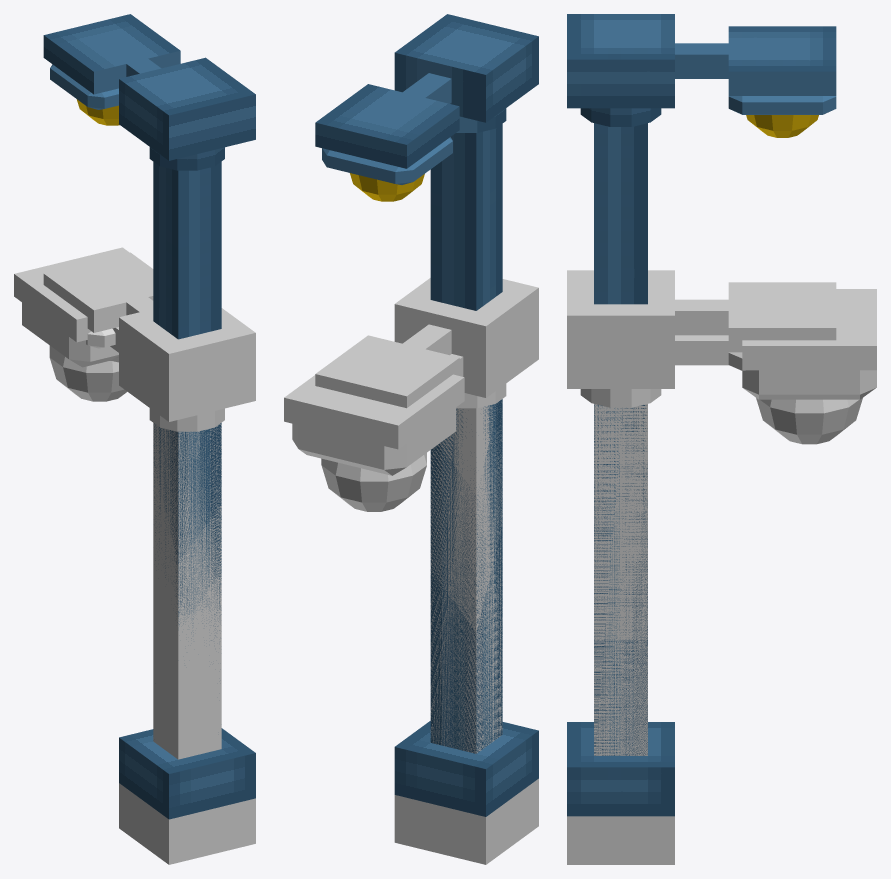
Rendered from LightPole (1).fbx.
The picture shows the model from 3 angles, left to right: view 1: azimuth 30°, elevation 25°; view 2: azimuth 150°, elevation 25°; view 3: azimuth 270°, elevation 25°; orthographic projection. The views are drawn at different scales.
Visible parts, largest first — view 1: cuboid, cuboid_1, cuboid_4, cuboid_5, cuboid_3, cuboid_6, beveled_cuboid; view 2: cuboid, cuboid_1, cuboid_3, cuboid_4, cuboid_5, cuboid_6; view 3: cuboid, cuboid_1, cuboid_3, cuboid_4, cuboid_5, cuboid_6.
Boxes of the visible parts, bbox=[...] form: cuboid: bbox=[43, 14, 255, 819]; cuboid_1: bbox=[14, 247, 255, 864]; cuboid_4: bbox=[119, 308, 255, 399]; cuboid_5: bbox=[43, 252, 153, 332]; cuboid_3: bbox=[154, 424, 221, 641]; cuboid_6: bbox=[120, 292, 153, 315]; beveled_cuboid: bbox=[86, 328, 115, 348]; cuboid: bbox=[315, 14, 538, 816]; cuboid_1: bbox=[284, 313, 538, 864]; cuboid_3: bbox=[430, 402, 502, 753]; cuboid_4: bbox=[394, 278, 538, 366]; cuboid_5: bbox=[315, 335, 459, 408]; cuboid_6: bbox=[403, 324, 451, 355]; cuboid: bbox=[567, 14, 836, 816]; cuboid_1: bbox=[567, 289, 876, 864]; cuboid_3: bbox=[594, 404, 647, 755]; cuboid_4: bbox=[567, 270, 674, 364]; cuboid_5: bbox=[728, 282, 836, 352]; cuboid_6: bbox=[675, 299, 728, 335].
Bounding box in the file's own units: 62.5 × 412 × 144.
Materials: 1 (1 with a texture image).
